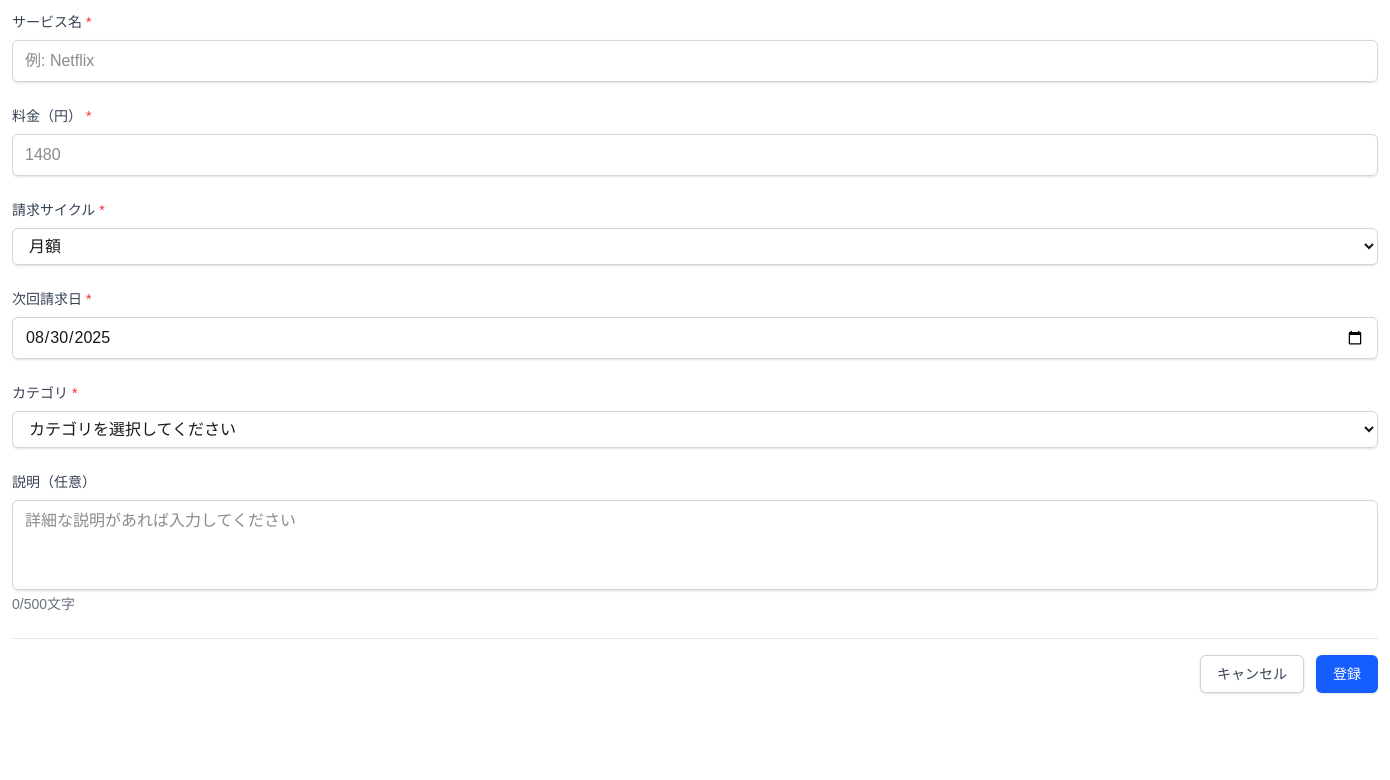
it: SubscriptionForm › バリデーション機能 › 料金が0以下の場合エラーが表示されること
Type "0" into the number field labelled "料金（円） *" at (695, 155), box [12, 134, 1378, 176]
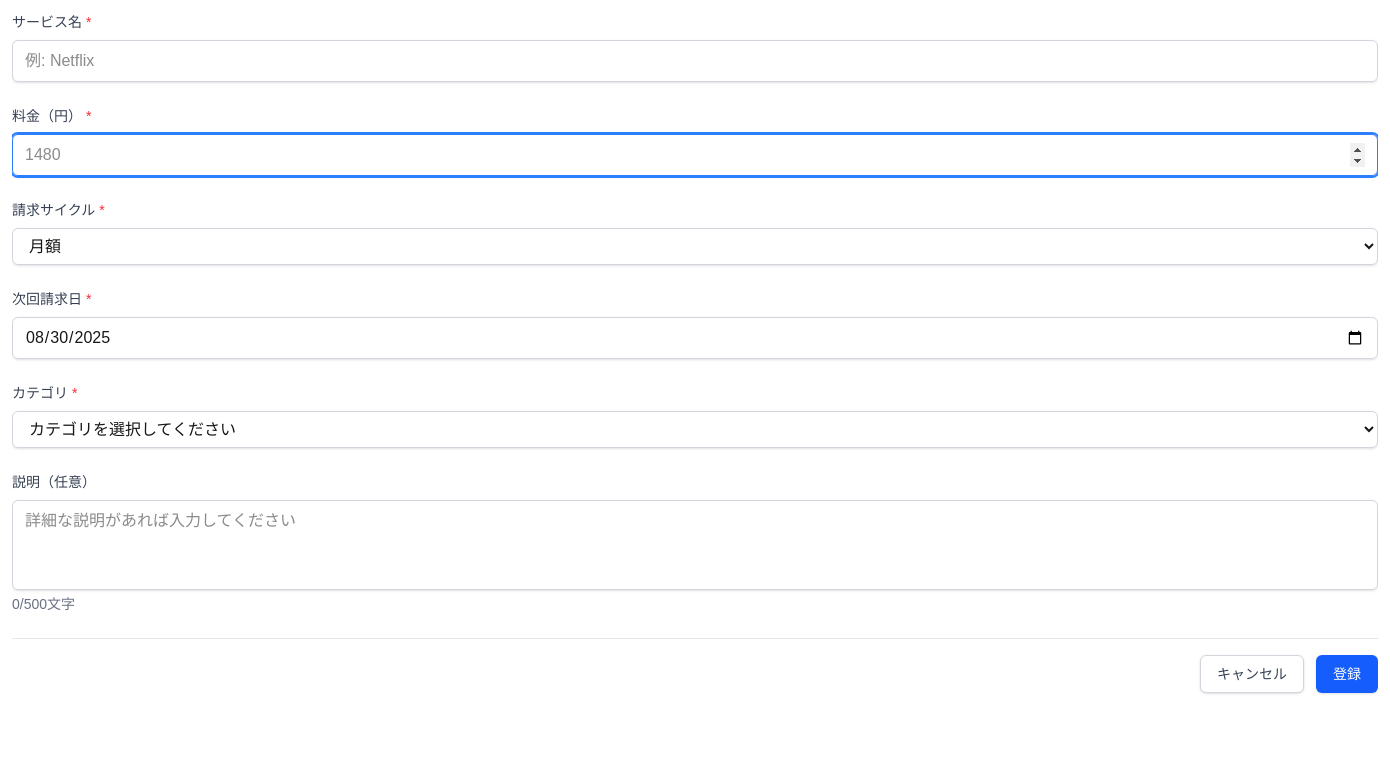
Press Tab
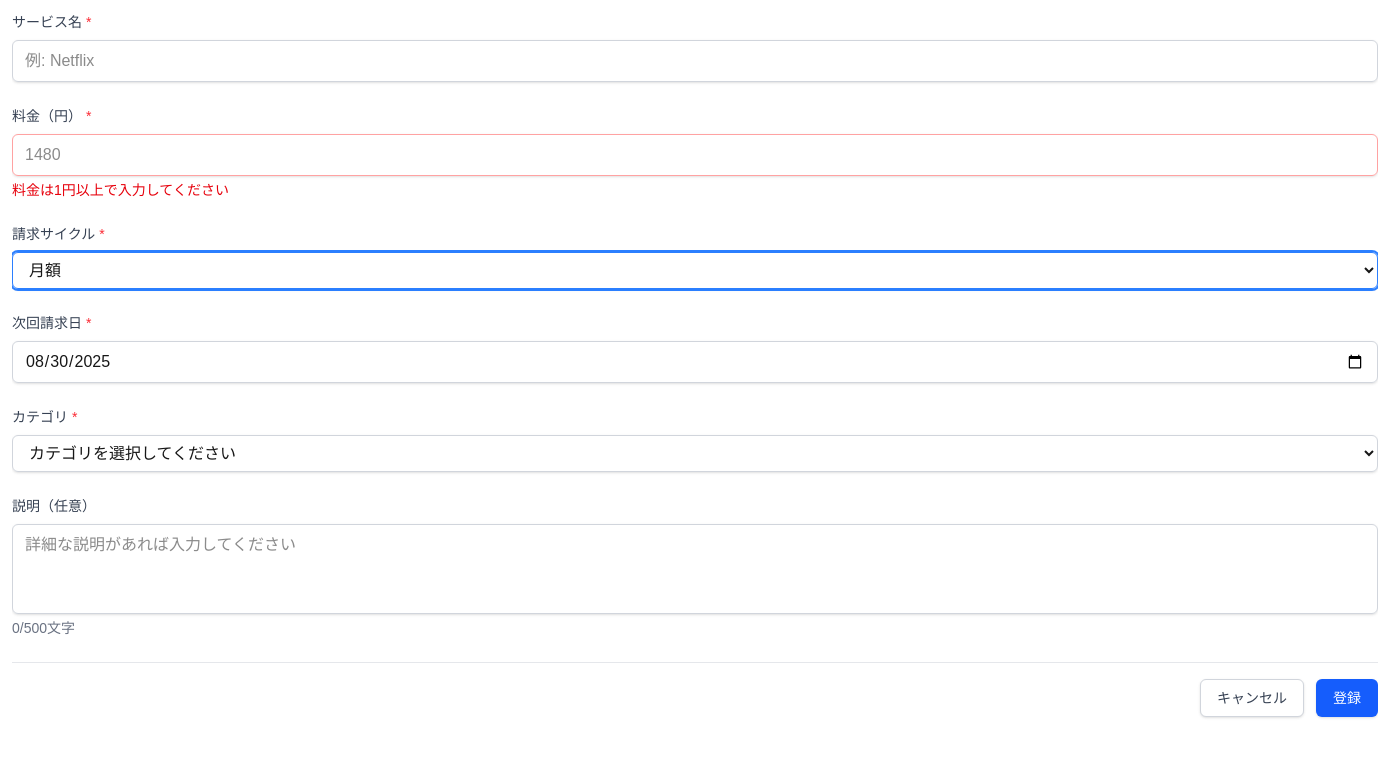
Result: the text "料金は1円以上で入力してください" is shown at [12, 182, 229, 198]
